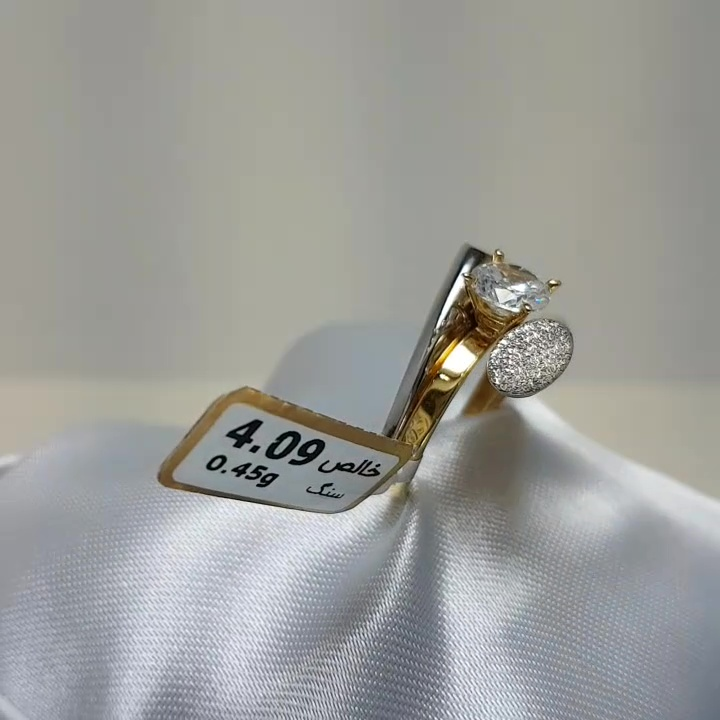Ring 7: (385, 217, 614, 491)
